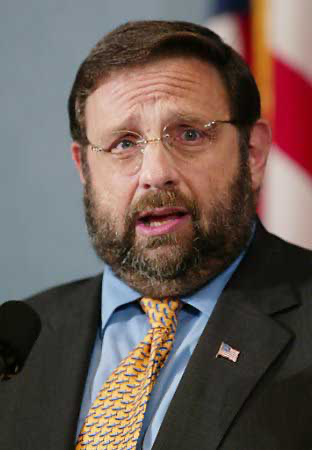Face: (76, 59, 241, 285)
